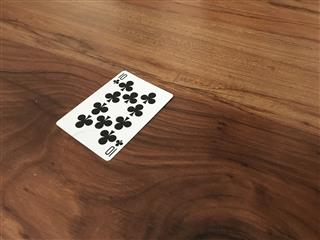TenOfClubs: (54, 69, 174, 162)
